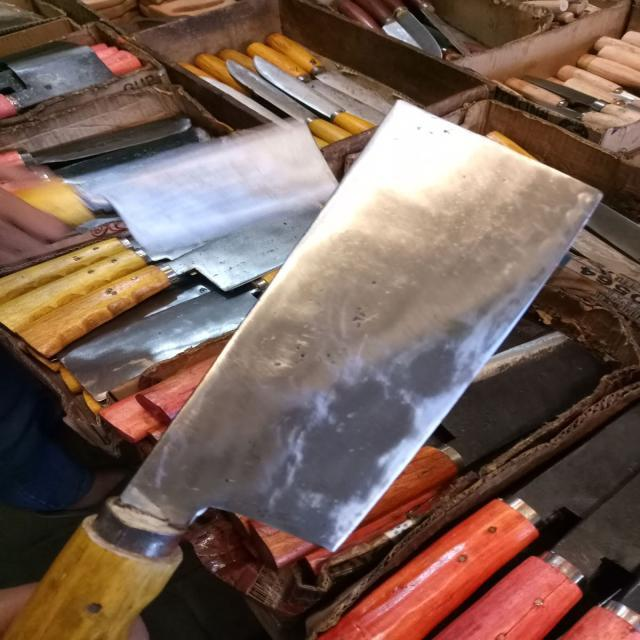Pisau: (14, 96, 617, 637)
